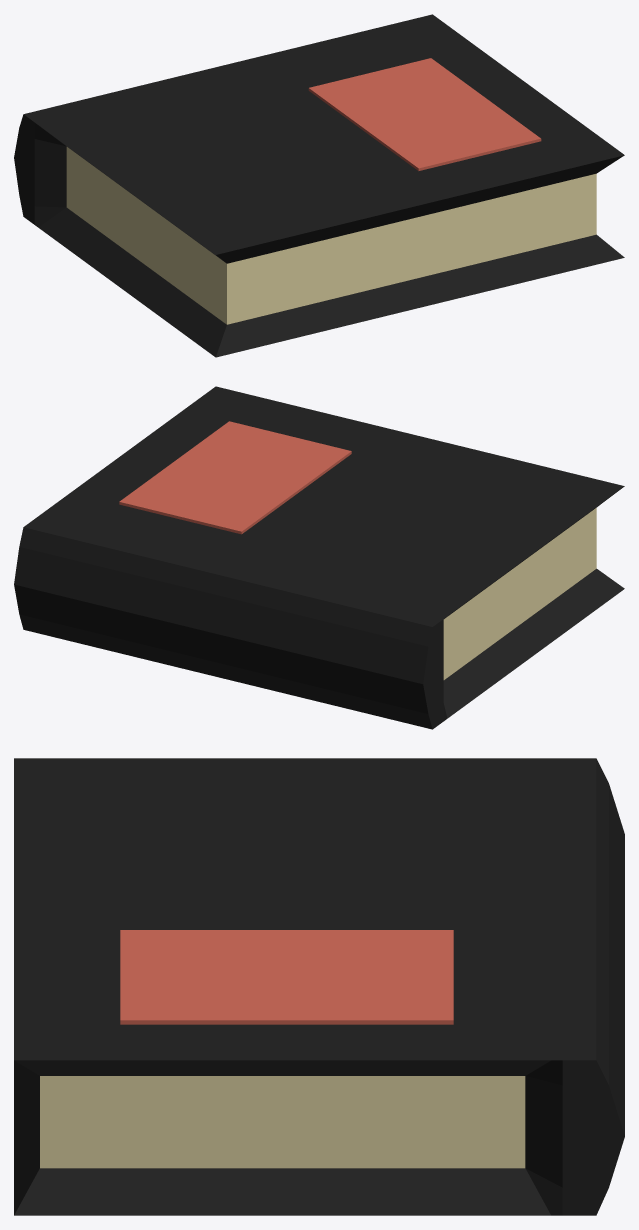
Rendered from red-book.fbx.
3 renders of one model, top to bottom at view 1: azimuth 30°, elevation 25°; view 2: azimuth 150°, elevation 25°; view 3: azimuth 270°, elevation 25°, orthographic. The views are drawn at different scales.
Visible parts, largest first — view 1: Cube; view 2: Cube; view 3: Cube.
Part boxes in pixels (bbox=[...]): Cube: bbox=[14, 14, 624, 357]; Cube: bbox=[14, 386, 624, 729]; Cube: bbox=[14, 758, 624, 1215].
Size of the model in its own units: 200 by 49.19 by 171.
